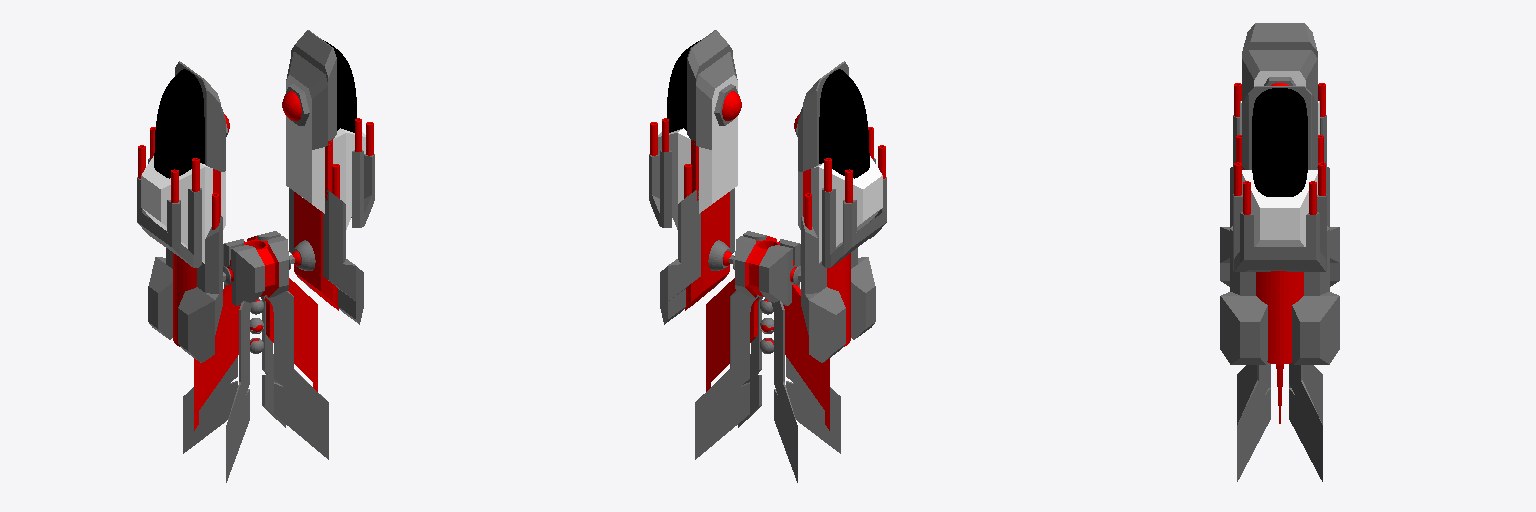
Rendered from ship_1_design.obj.
The picture shows the model from 3 angles: view 1: azimuth 30°, elevation 25°; view 2: azimuth 150°, elevation 25°; view 3: azimuth 270°, elevation 25°; orthographic projection.
Visible parts, largest first — view 1: Object_53, Object_50, Object_177, Object_43, Object_28, Object_39, Object_30, Object_20, Object_18, Object_54, Object_52, Object_35 (+9 smaller); view 2: Object_55, Object_50, Object_177, Object_29, Object_28, Object_39, Object_24, Object_20, Object_18, Object_52, Object_54, Object_35 (+9 smaller); view 3: Object_179, Object_27, Object_24, Object_30, Object_50, Object_35, Object_53, Object_55, Object_28, Object_29, Object_43, Object_52 (+3 smaller).
Boxes of the visible parts, x1,y1,x2,y2 form: Object_53: [264, 291, 328, 459]; Object_50: [286, 75, 365, 229]; Object_177: [154, 69, 204, 178]; Object_43: [178, 216, 222, 362]; Object_28: [286, 30, 336, 149]; Object_39: [141, 156, 225, 263]; Object_30: [323, 190, 363, 324]; Object_20: [194, 284, 240, 430]; Object_18: [265, 278, 317, 391]; Object_54: [183, 289, 237, 453]; Object_52: [226, 301, 252, 482]; Object_35: [294, 192, 338, 310]; Object_55: [695, 291, 759, 459]; Object_50: [658, 75, 737, 229]; Object_177: [819, 69, 869, 178]; Object_29: [801, 216, 845, 362]; Object_28: [687, 30, 737, 149]; Object_39: [798, 156, 882, 263]; Object_24: [660, 190, 700, 324]; Object_20: [783, 284, 829, 430]; Object_18: [706, 278, 758, 391]; Object_52: [786, 289, 840, 453]; Object_54: [771, 301, 797, 482]; Object_35: [685, 192, 729, 310]; Object_179: [1252, 88, 1307, 196]; Object_27: [1242, 23, 1317, 102]; Object_24: [1292, 226, 1339, 364]; Object_30: [1220, 226, 1267, 364]; Object_50: [1242, 170, 1317, 246]; Object_35: [1256, 271, 1303, 364]; Object_53: [1237, 362, 1270, 481]; Object_55: [1289, 362, 1322, 481]; Object_28: [1242, 86, 1317, 169]; Object_29: [1326, 166, 1339, 286]; Object_43: [1220, 166, 1233, 286]; Object_52: [1237, 365, 1270, 424].
Bounding box in the file's own units: 18.42 × 33.8 × 9.06.